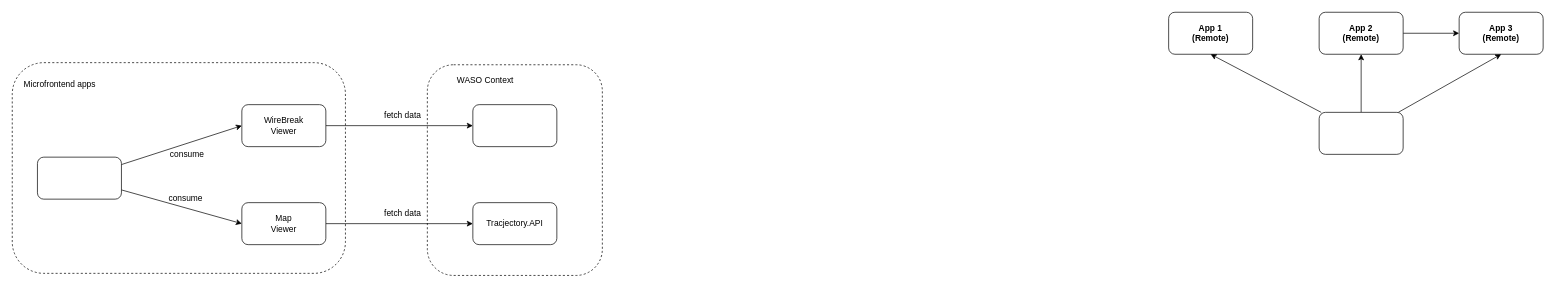
Image size: 1555x288. Some labels were removed from this diagram. Each missing label, with the centre of its shape:
Shell (Host): the point at 1360,133
Shell App: the point at 79,177
WireBreak.API: the point at 514,125
